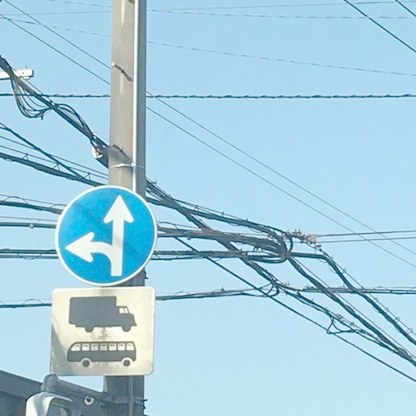Direction_sign: (53, 184, 159, 289)
